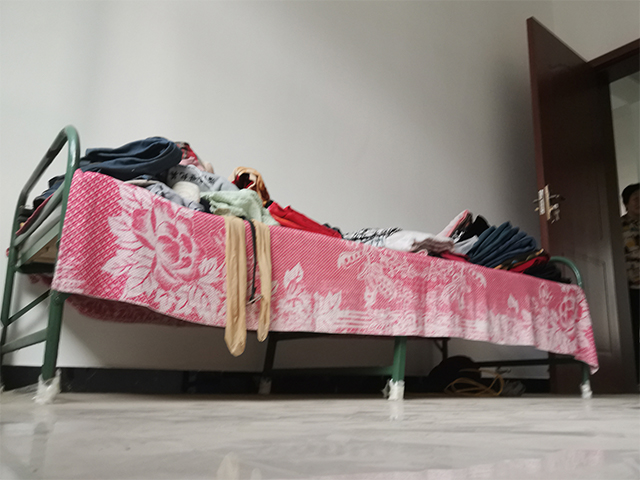bed: (1, 123, 603, 406)
wire: (443, 365, 513, 400)
